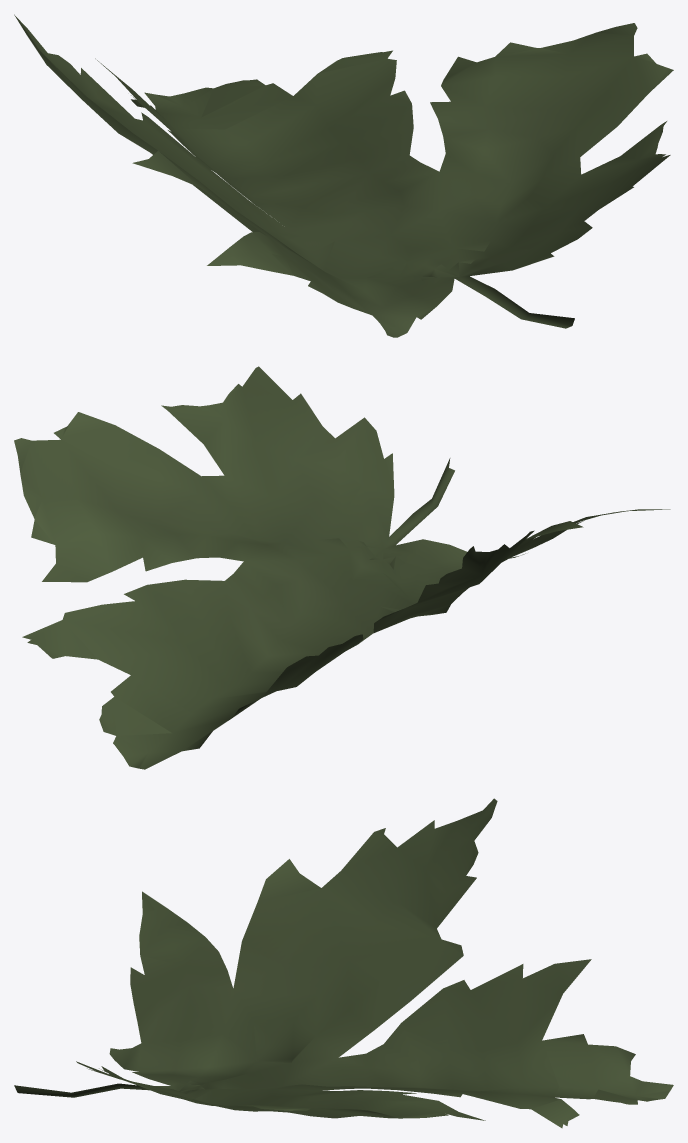
The picture shows the model from 3 angles, top to bottom: view 1: azimuth 30°, elevation 25°; view 2: azimuth 150°, elevation 25°; view 3: azimuth 270°, elevation 25°; orthographic projection. The views are drawn at different scales.
Visible parts, largest first — view 1: alt34.003; view 2: alt34.003; view 3: alt34.003.
Part boxes in pixels (left/top/right/bottom): alt34.003: left=14, top=14, right=673, bottom=337; alt34.003: left=14, top=366, right=670, bottom=769; alt34.003: left=14, top=798, right=673, bottom=1128.
Bounding box in the file's own units: 0.4273 × 0.1596 × 0.5.
